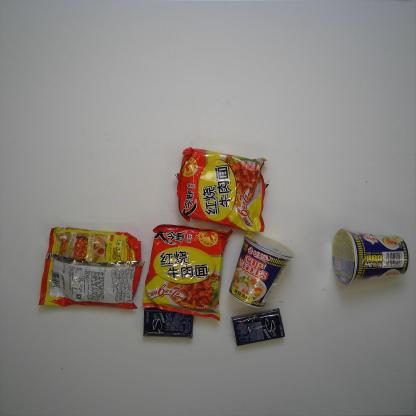Gum: (231, 308, 285, 346), (143, 307, 194, 339)
Instant Noodles: (142, 224, 233, 322), (38, 227, 145, 310), (174, 147, 270, 234), (229, 231, 295, 310), (331, 228, 410, 286)
